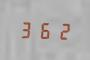six: (36, 19, 52, 40)
three: (18, 19, 34, 39)
two: (53, 20, 69, 40)
